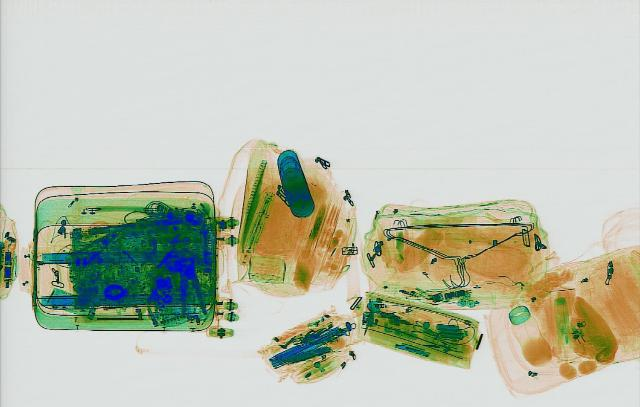Pliers: (172, 256, 206, 318)
